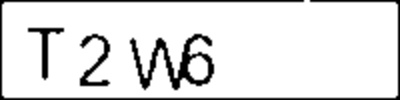2: (77, 33, 115, 90)
6: (182, 30, 218, 88)
J: (24, 26, 69, 80)
W: (128, 35, 194, 92)
